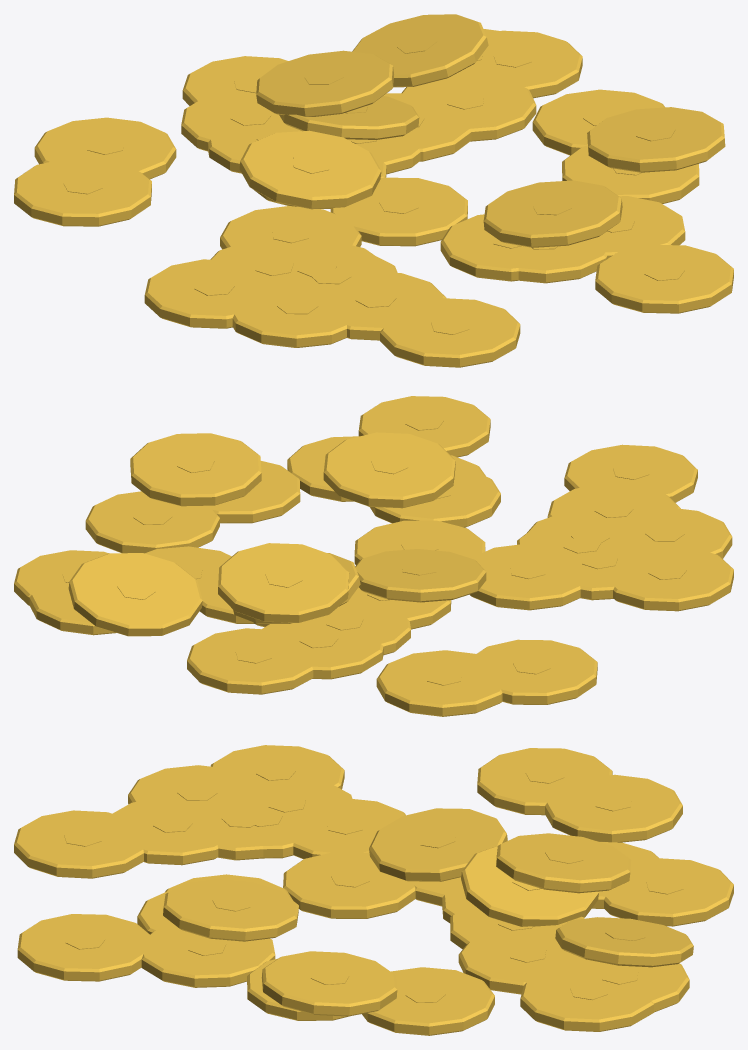
File: gold_medium.glb
3 renders of one model, top to bottom at view 1: azimuth 30°, elevation 25°; view 2: azimuth 150°, elevation 25°; view 3: azimuth 270°, elevation 25°, orthographic. The views are drawn at different scales.
Visible parts, largest first — view 1: Gold_Medium_Gold; view 2: Gold_Medium_Gold; view 3: Gold_Medium_Gold.
Boxes of the visible parts, x1,y1,x2,y2 form: Gold_Medium_Gold: [14, 14, 733, 367]; Gold_Medium_Gold: [14, 396, 733, 716]; Gold_Medium_Gold: [14, 745, 733, 1035].
Size of the model in its own units: 0.1152 by 0.0115 by 0.1244.
